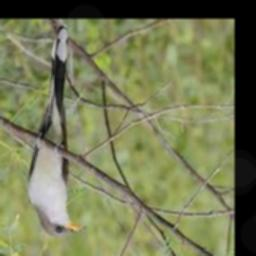Cuckoo: (27, 27, 87, 236)
